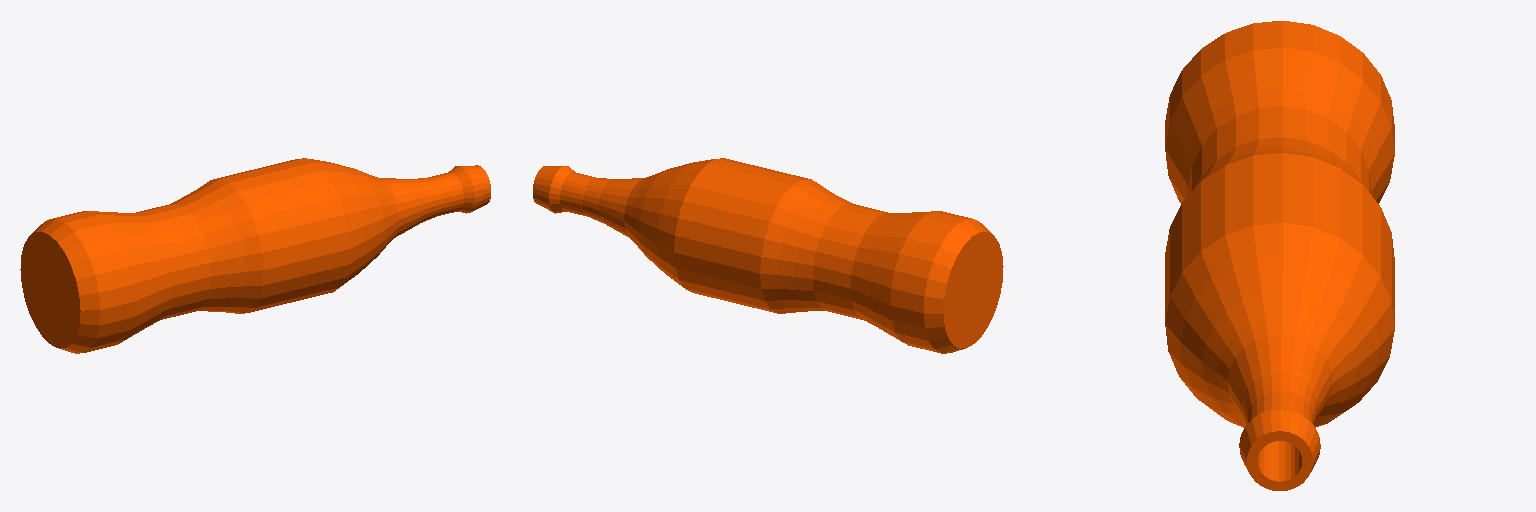
The robot description file, URDF, robot "2024-09-16_3_DrinkBottle_1ef":
<?xml version="1.0" ?>
<robot name="2024-09-16_3_DrinkBottle_1ef">
   <material name="obj_color">
      <color rgba="1.0 0.423529411765 0.0392156862745 1.0"/>
   </material>
   <link name="top">
      <inertial>
         <origin rpy="-0.0004488541079467496 -0.0004488532133241963 -6.460176973870463e-05" xyz="0.06149608506367786 0.02223497868677787 0.02223511460694894"/>
         <mass value="-0.313359670408734"/>
         <inertia ixx="-6.460176973897949e-05" ixy="1.975322362111872e-10" ixz="2.580669101108052e-10" iyy="-0.0004488537553029062" iyz="-4.37178819403159e-10" izz="-0.000448853565967765"/>
      </inertial>
      <visual>
         <origin rpy="0 0 0" xyz="0 0 0"/>
         <geometry>
            <mesh filename="top_watertight_tiny.stl" scale="1 1 1"/>
         </geometry>
         <material name="obj_color"/>
      </visual>
      <collision>
         <origin rpy="0 0 0" xyz="0 0 0"/>
         <geometry>
            <mesh filename="top_watertight_tiny.obj" scale="1 1 1"/>
         </geometry>
      </collision>
   </link>
   <link name="bottom">
      <inertial>
         <origin rpy="1.633333333199431e-08 1.633333333199431e-08 1.633333333362855e-08" xyz="0.3464080000000008 0.3464080000000008 0.3464080000000008"/>
         <mass value="0.0009800000000000017"/>
         <inertia ixx="1.633333333253906e-08" ixy="5.447480642029219e-19" ixz="5.447480642029219e-19" iyy="1.633333333253906e-08" iyz="5.447480642029219e-19" izz="1.633333333253906e-08"/>
      </inertial>
      <visual>
         <origin rpy="0 0 0" xyz="0 0 0"/>
         <geometry>
            <mesh filename="bottom_watertight_tiny.stl" scale="1 1 1"/>
         </geometry>
         <material name="obj_color"/>
      </visual>
   </link>
   <link name="world"/>
   <joint name="world_to_base" type="fixed">
      <origin xyz="0 0 0"/>
      <axis xyz="0 0 0"/>
      <parent link="world"/>
      <child link="bottom"/>
   </joint>
   <joint name="rotation" type="revolute">
      <origin xyz="0 0 0"/>
      <axis xyz="0 0 -1"/>
      <parent link="bottom"/>
      <child link="top"/>
      <dynamics damping="1.0" friction="1.0"/>
      <limit effort="0.1" velocity="0.1" lower="0" upper="0.001"/>
   </joint>
</robot>

--- Render facts (derived) ---
3 views of the same robot in one strip: view 1: azimuth 30°, elevation 25°; view 2: azimuth 150°, elevation 25°; view 3: azimuth 270°, elevation 25° (orthographic).
Robot: 2024-09-16_3_DrinkBottle_1ef — 3 links, 2 joints (1 revolute, 1 fixed); root link world; default pose: all joints at 0.
Visible links, largest first — view 1: top; view 2: top; view 3: top.
Boxes of the visible links, box(x1,y1,x2,y2) form: top: box(20, 158, 490, 353); top: box(533, 158, 1003, 353); top: box(1165, 21, 1394, 490).
Bounding box of the posed robot: 0.1599 × 0.0445 × 0.0445 m (x, y, z).
1 mesh visuals loaded from 2 distinct referenced files (1 binary STL); not drawn: 1 (reference not matched to a file when rendering).
